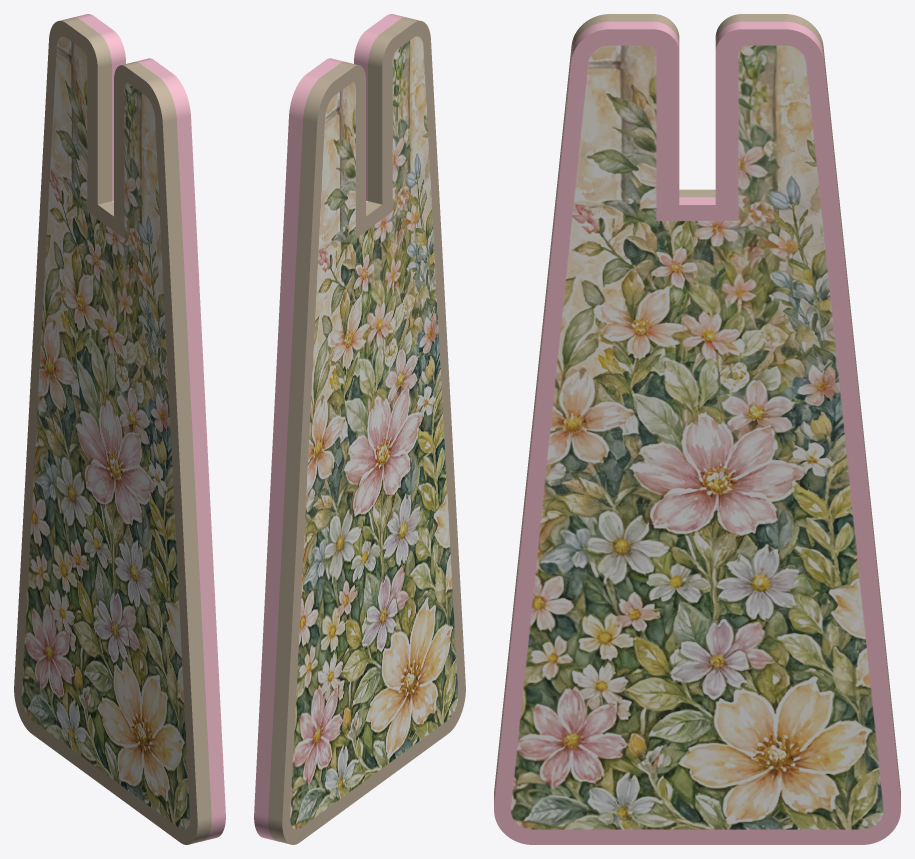
3 renders of one model, left to right at view 1: azimuth 30°, elevation 25°; view 2: azimuth 150°, elevation 25°; view 3: azimuth 270°, elevation 25°, orthographic. The views are drawn at different scales.
Visible parts, largest first — view 1: p015; view 2: p015; view 3: p015.
Part boxes in pixels (left/top/right/bottom): p015: left=14, top=14, right=225, bottom=844; p015: left=254, top=14, right=465, bottom=844; p015: left=494, top=14, right=900, bottom=844.
Size of the model in its own units: 18 by 448 by 202.
Materials: 4 (2 with a texture image).
